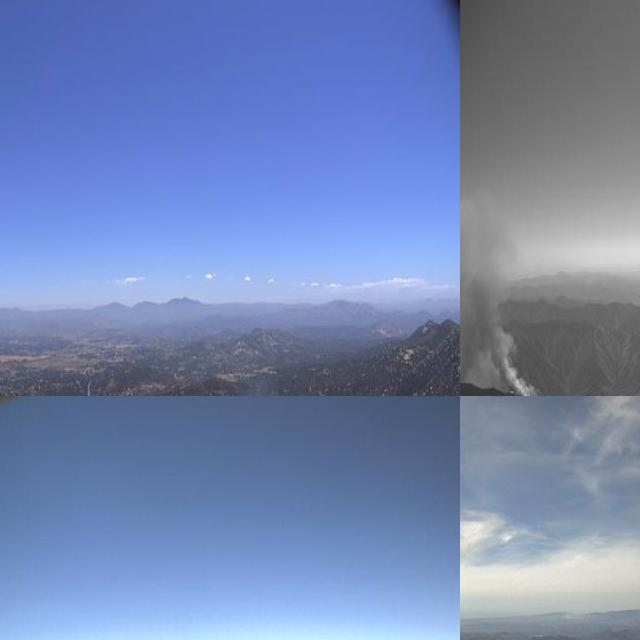smoke: (460, 192, 534, 396), (252, 383, 308, 396)
